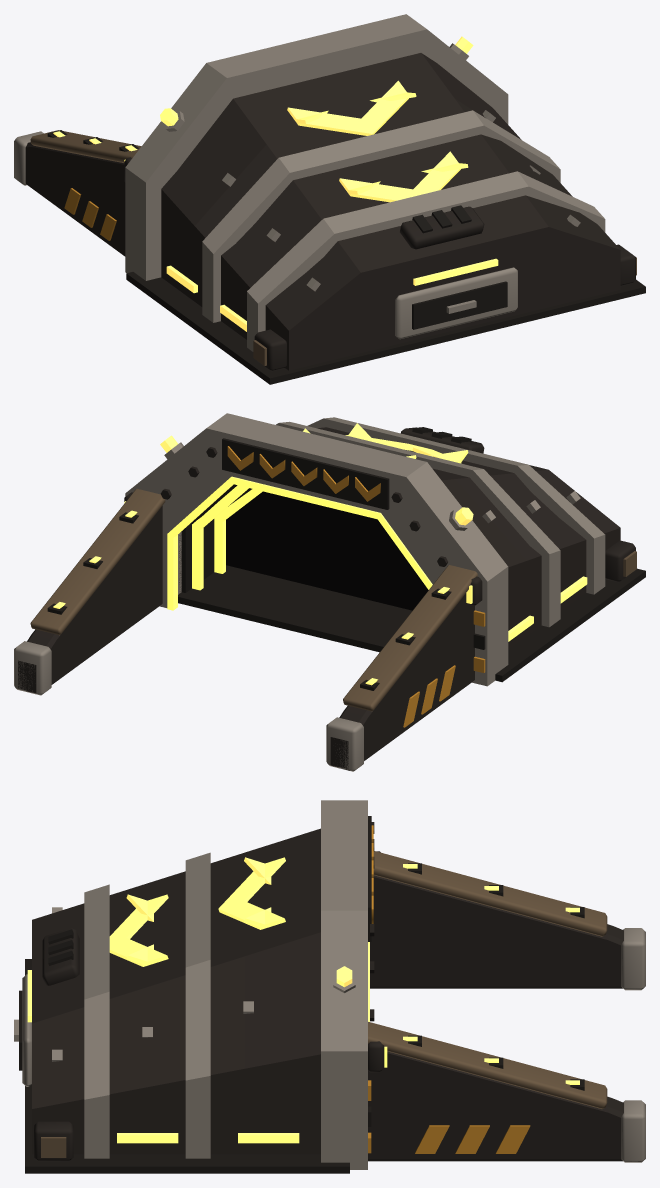
File: fac_tunnel.glb
3 renders of one model, top to bottom at view 1: azimuth 30°, elevation 25°; view 2: azimuth 150°, elevation 25°; view 3: azimuth 270°, elevation 25°, orthographic. The views are drawn at different scales.
Visible parts, largest first — view 1: body, arrow_in, arrow_out; view 2: body, mouth, arrow_in, arrow_out; view 3: body, arrow_in, arrow_out.
Boxes of the visible parts, x1=… form: body: x1=14, y1=14, x2=645, y2=384; arrow_in: x1=287, y1=80, x2=460, y2=202; arrow_out: x1=295, y1=92, x2=468, y2=194; body: x1=14, y1=413, x2=645, y2=771; mouth: x1=167, y1=476, x2=432, y2=610; arrow_in: x1=345, y1=435, x2=461, y2=463; arrow_out: x1=303, y1=423, x2=468, y2=462; body: x1=14, y1=800, x2=645, y2=1173; arrow_in: x1=109, y1=857, x2=285, y2=966; arrow_out: x1=126, y1=857, x2=271, y2=965.
Bounding box in the file's own units: 1.36 × 0.655 × 1.75.
